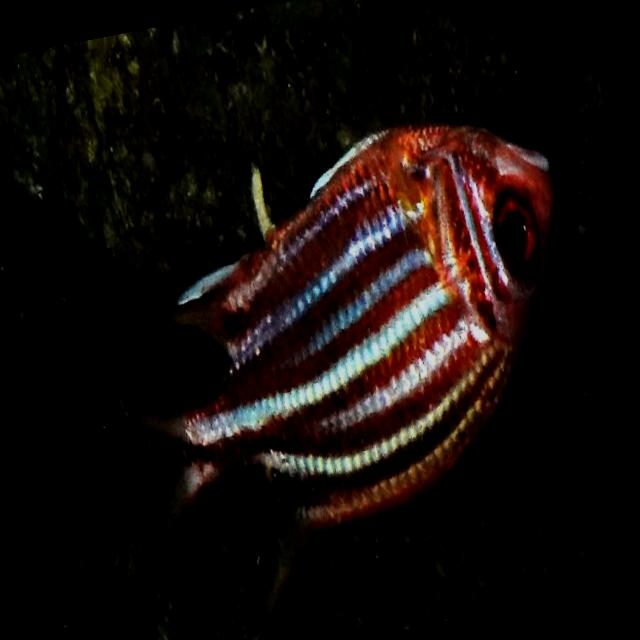Asker Baligi: (69, 76, 634, 640)
